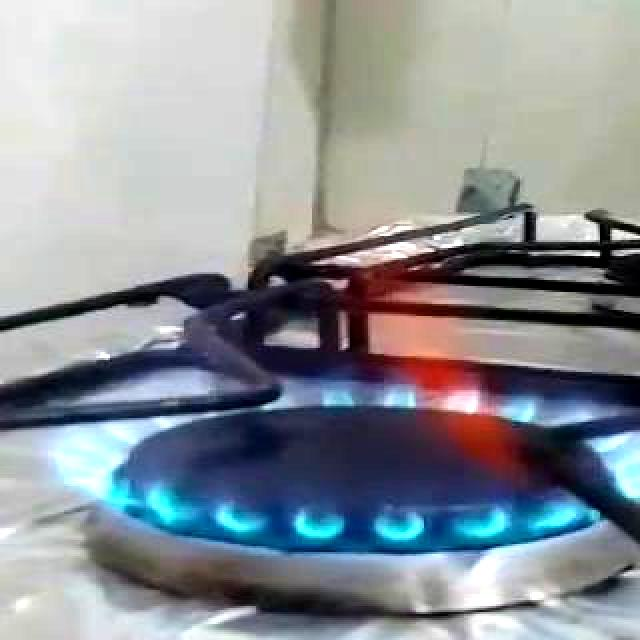fire: (36, 198, 640, 546)
